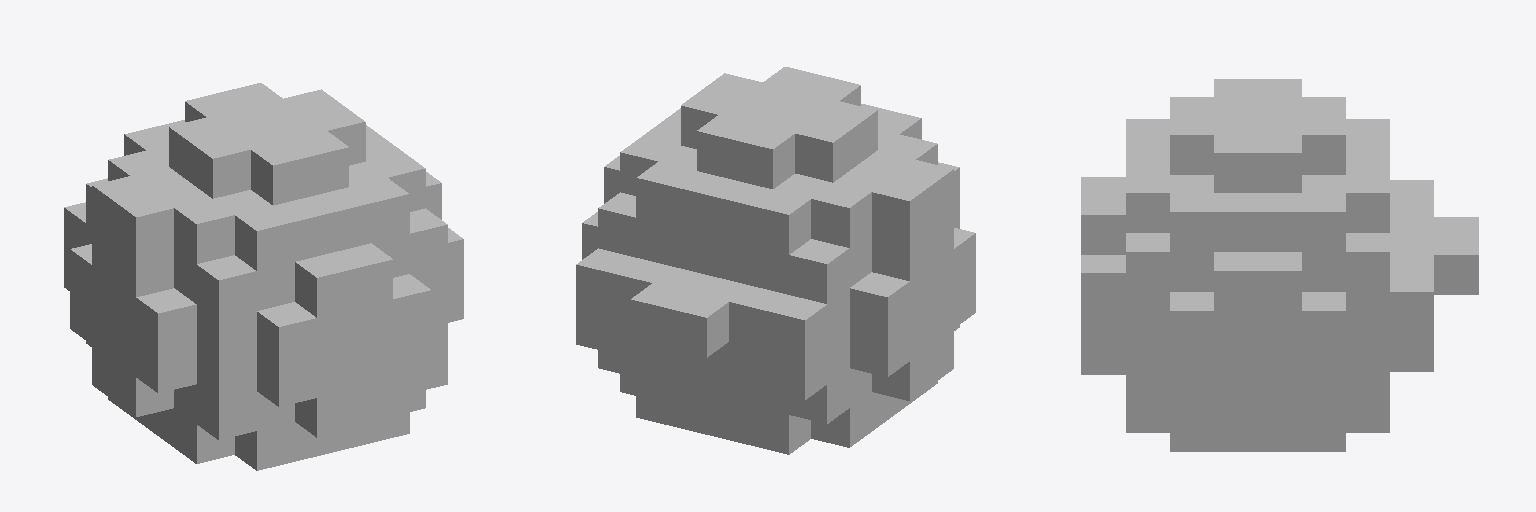
The model's file is Snowman_Head_2.obj.
3 renders of one model, left to right at view 1: azimuth 30°, elevation 25°; view 2: azimuth 150°, elevation 25°; view 3: azimuth 270°, elevation 25°, orthographic.
Visible parts, largest first — view 1: object 1; view 2: object 1; view 3: object 1.
Boxes of the visible parts, x1,y1,x2,y2 form: object 1: [64, 83, 463, 470]; object 1: [576, 67, 975, 454]; object 1: [1081, 79, 1478, 451].
Size of the model in its own units: 0.8 by 0.7 by 0.9.